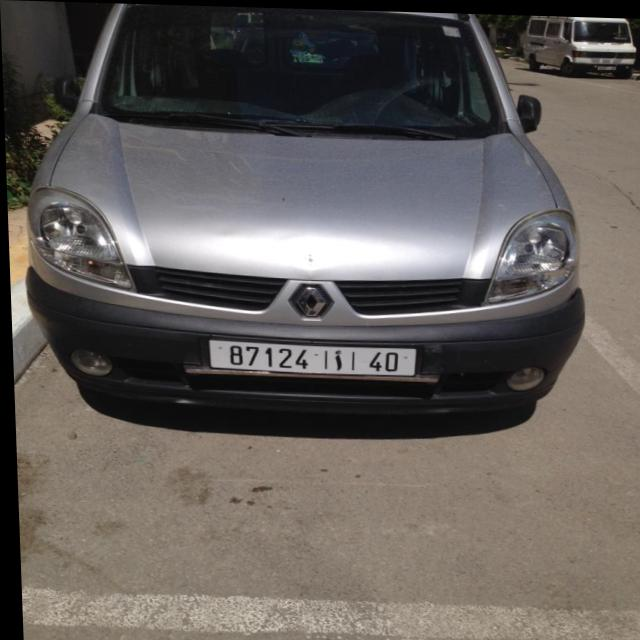License-Plate: (206, 339, 413, 374)
